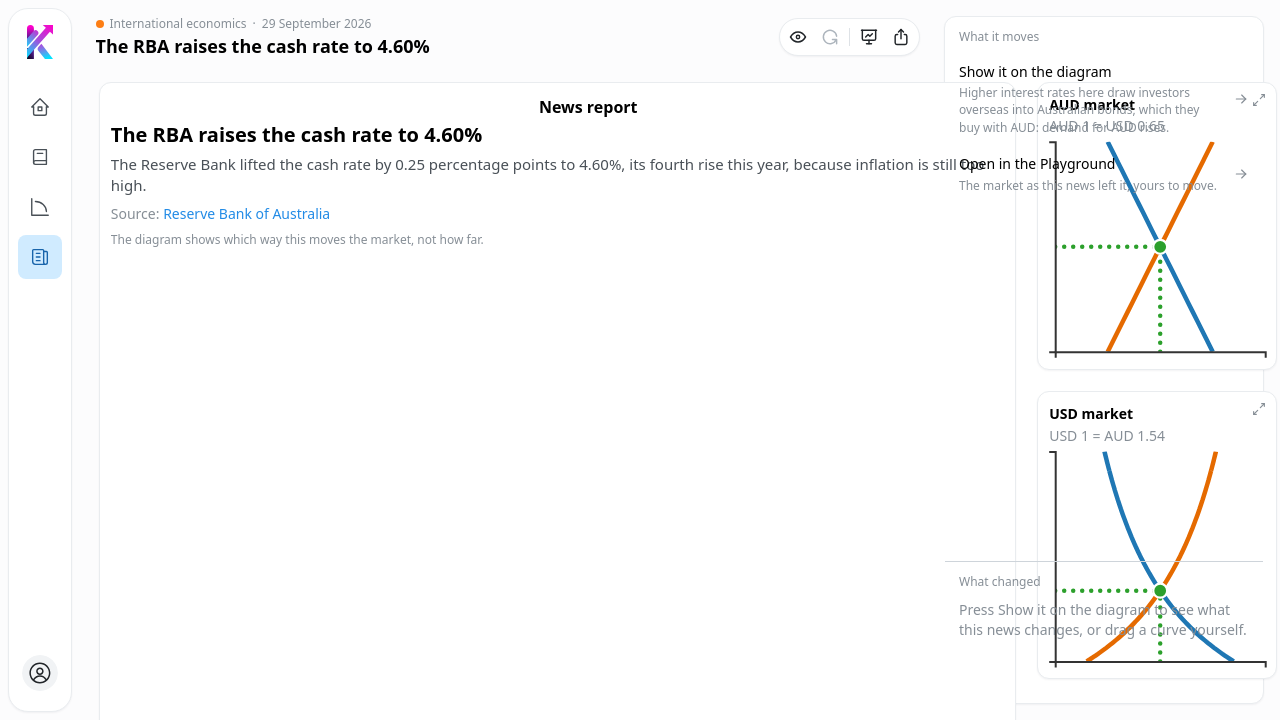
The In the news panel › lists every story newest first, under each month, with the open one marked
Click the button named "In the news" at (40, 257), box [18,235,62,279]
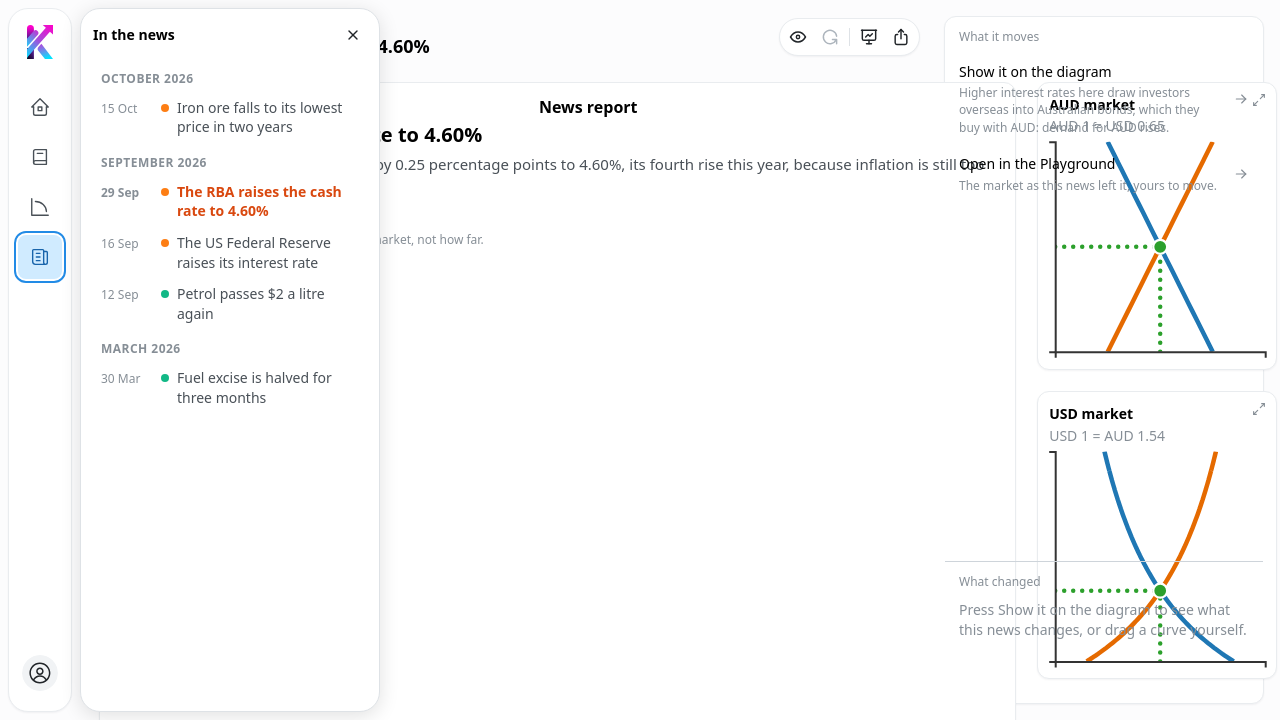
Expected: the text "September 2026" is shown, [101,154,207,171]
